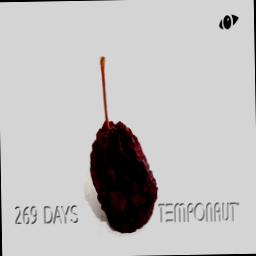Apple Rotten: (74, 16, 180, 237)
